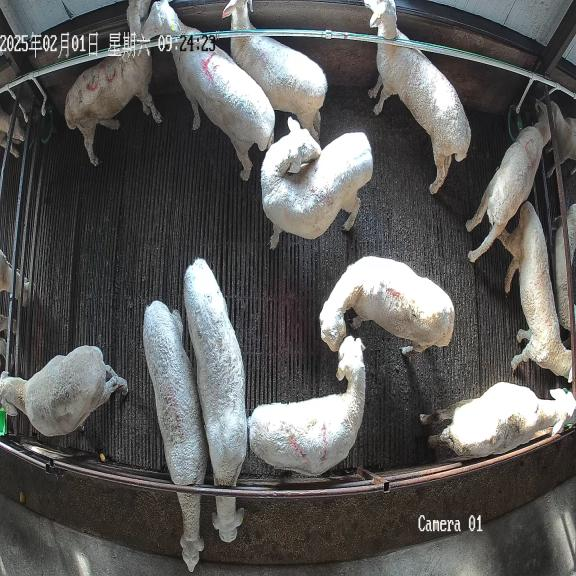drinking: (466, 102, 551, 262)
eating: (184, 259, 247, 542), (143, 301, 208, 572)
stand: (142, 0, 275, 180), (364, 0, 471, 194), (248, 336, 365, 475), (65, 0, 161, 166), (223, 0, 328, 141), (260, 118, 373, 249), (497, 202, 572, 382), (319, 256, 454, 352), (421, 382, 576, 458), (0, 346, 127, 436)
